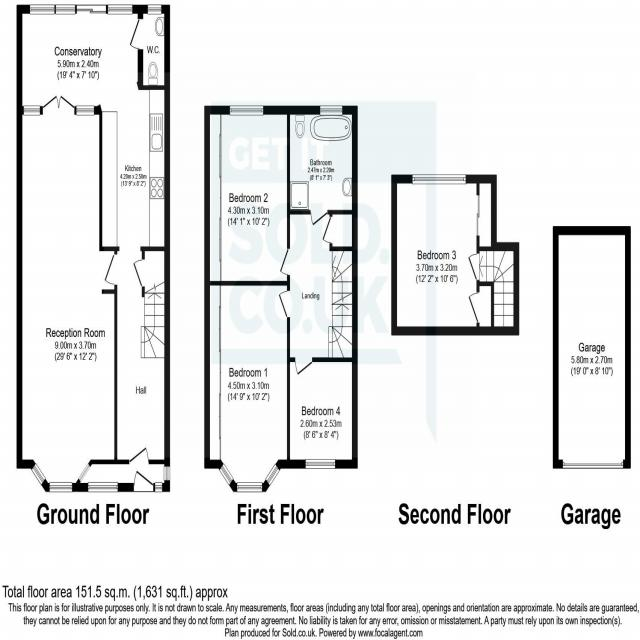DOOR: (104, 250, 118, 288), (133, 468, 154, 492), (466, 251, 480, 284), (467, 290, 480, 325), (129, 18, 143, 50), (127, 445, 150, 464), (277, 289, 291, 320), (132, 257, 145, 289), (294, 357, 314, 377), (279, 247, 291, 277), (321, 216, 333, 246), (309, 210, 329, 227)
DOUBLE DOOR: (41, 90, 76, 116)
ROOM: (16, 90, 118, 493), (391, 174, 519, 337), (204, 279, 290, 492), (204, 105, 290, 286), (287, 356, 358, 469)
WINDOW: (412, 172, 467, 186), (217, 460, 236, 489), (229, 103, 264, 117), (29, 460, 47, 487), (87, 480, 119, 494), (265, 462, 281, 488), (305, 457, 336, 470), (29, 2, 55, 17), (107, 3, 134, 16), (48, 480, 73, 494), (77, 461, 92, 484), (236, 481, 263, 493), (319, 104, 343, 116), (75, 103, 95, 117), (55, 3, 76, 16), (23, 103, 41, 117), (147, 4, 162, 15), (163, 465, 171, 482), (154, 481, 163, 493)
